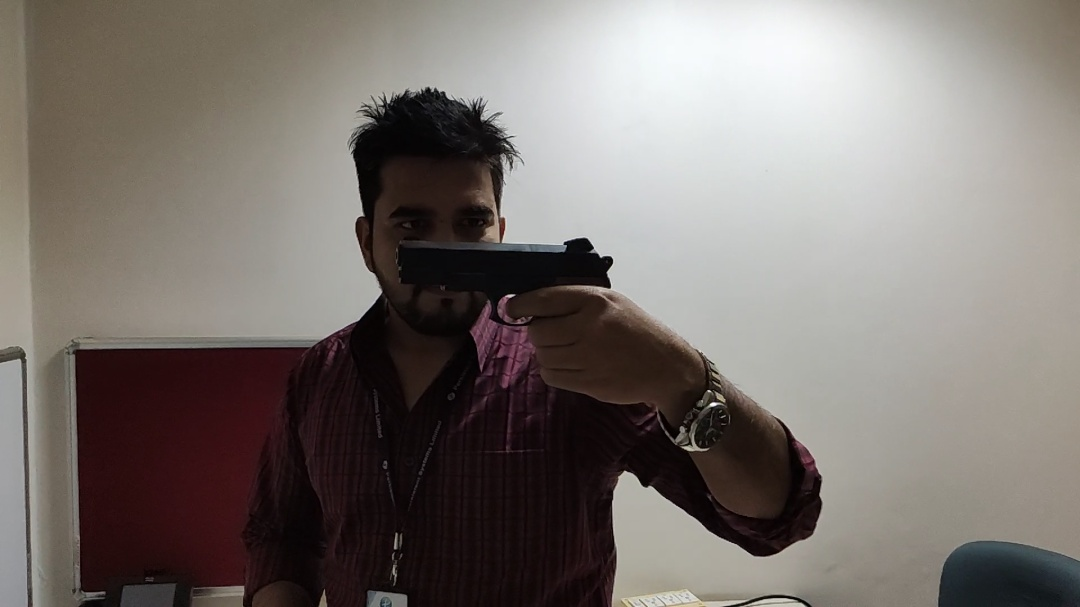gun: (396, 234, 623, 384)
